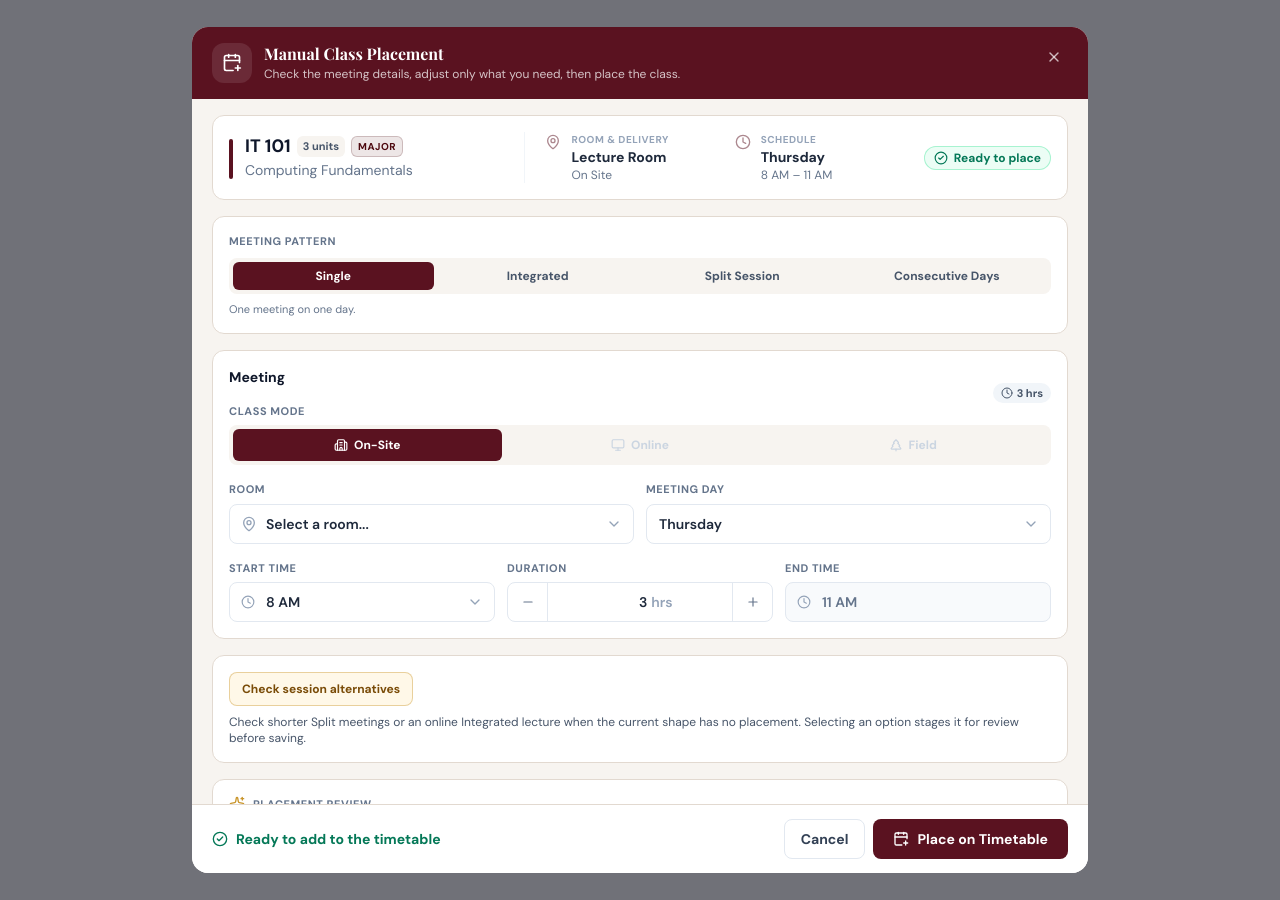
Test: DropModal Integrated configuration › keeps Thursday as the laboratory day and adds the online lecture separately
The width and height of the screenshot is (1280, 900).
Expected: the heading "Laboratory Meeting" is not shown
Expected: the button "Online" is disabled, [506,429,774,461]
Click the radio button labelled "Integrated": click(538, 276) [438,262,638,290]
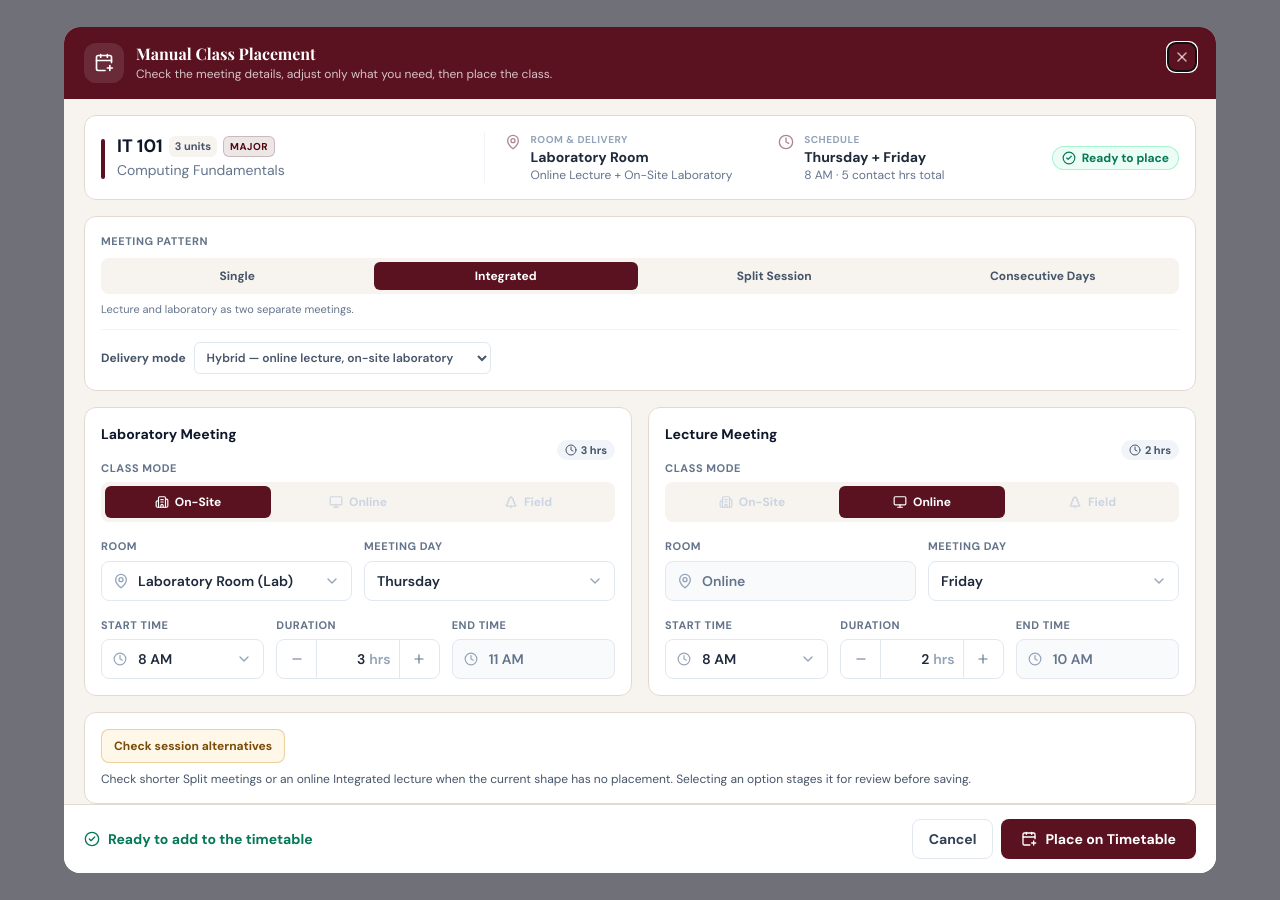
Expected: the dropdown named "First meeting day" shows "Thursday", [364,561,615,601]
Result: the 1st field holds "Online" at [665,561,916,601]
Result: the button "Online" below "Lecture Meeting" is enabled at [839,486,1005,518]
